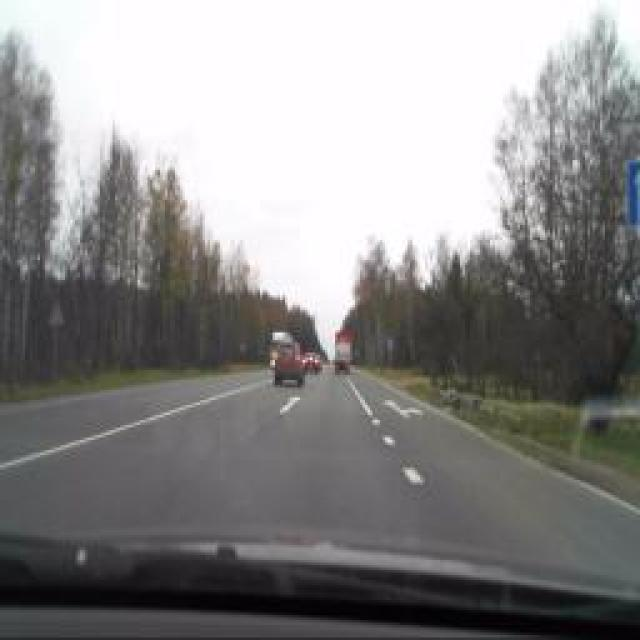sign: (385, 338, 395, 352)
